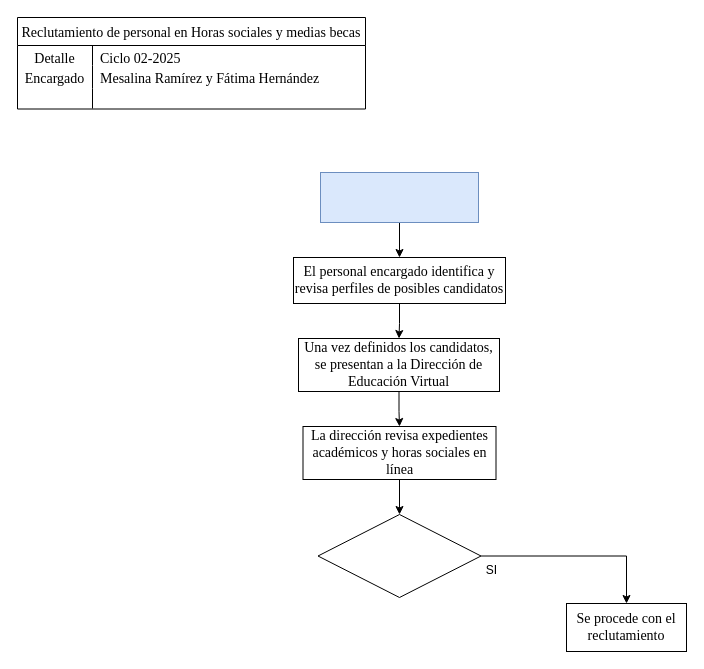
Image size: 704x669. Some labels were removed from this diagram. The box of each missing label's shape, as (x1, y1, x2, y2) in pixels:
Proceso general para selección de candidatos: (320, 172, 478, 222)
¿Información válida?: (317, 514, 481, 598)
